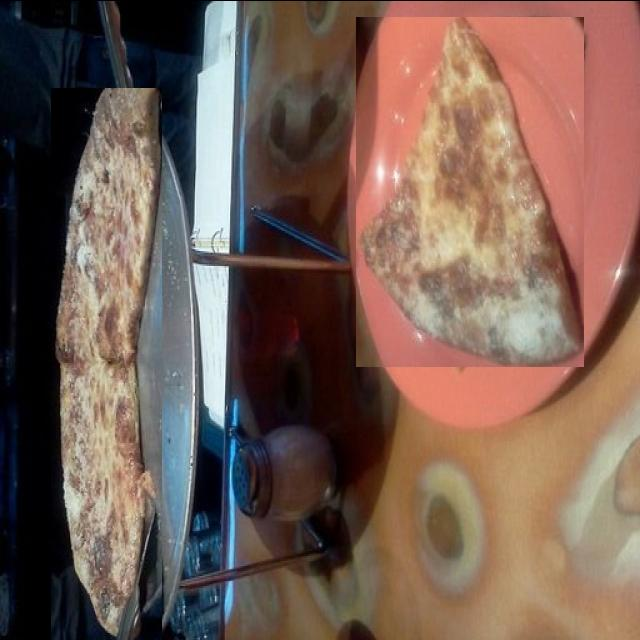pizza: (356, 16, 584, 366), (51, 87, 162, 640)
